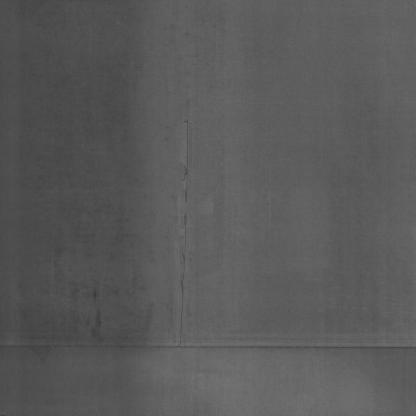oil_spot: (169, 106, 192, 344), (82, 286, 106, 332)
welding_line: (0, 338, 416, 362)
